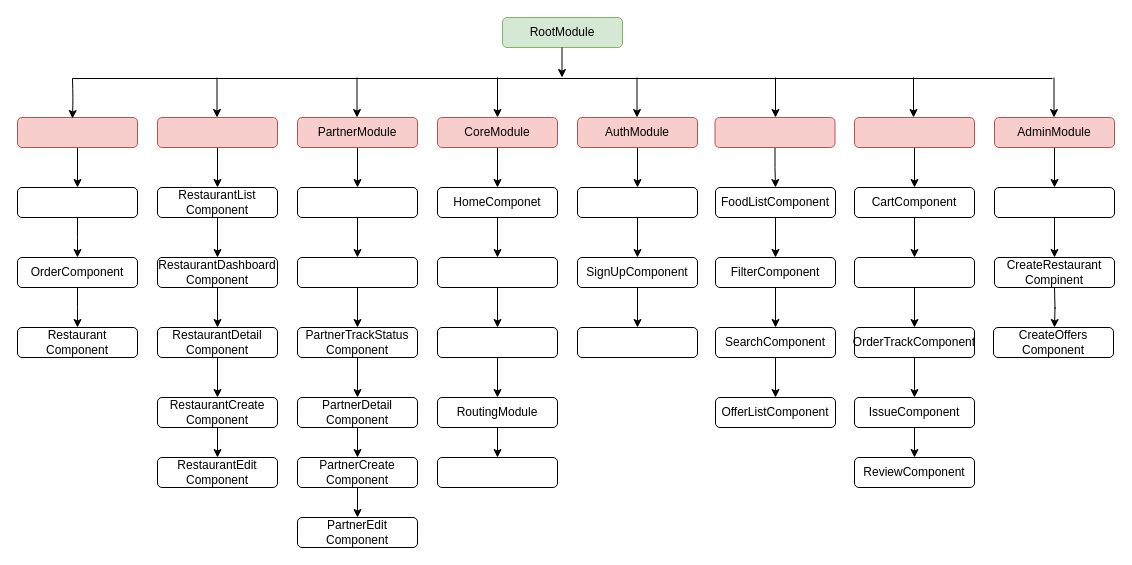
Image size: 1132x565. Some labels were removed from this diagram. The box of each missing label's shape, as (x1, y1, x2, y2) in pixels:
AboutUsComponent: (436, 326, 558, 358)
BlockComponent: (576, 326, 698, 358)
CreateUser Component: (994, 186, 1114, 218)
CustomerModule: (16, 116, 138, 148)
FoodModule: (714, 116, 835, 148)
FooterComponent: (436, 456, 558, 488)
NavHeaderComponet: (436, 256, 558, 288)
OrderModule: (854, 116, 974, 148)
PartnerDashboard Component: (296, 256, 418, 288)
PartnerListComponent: (296, 186, 418, 218)
PaymentComponent: (854, 256, 974, 288)
ProfileComponent: (16, 186, 138, 218)
RestaurantModule: (156, 116, 278, 148)
SignInComponent: (576, 186, 698, 218)
